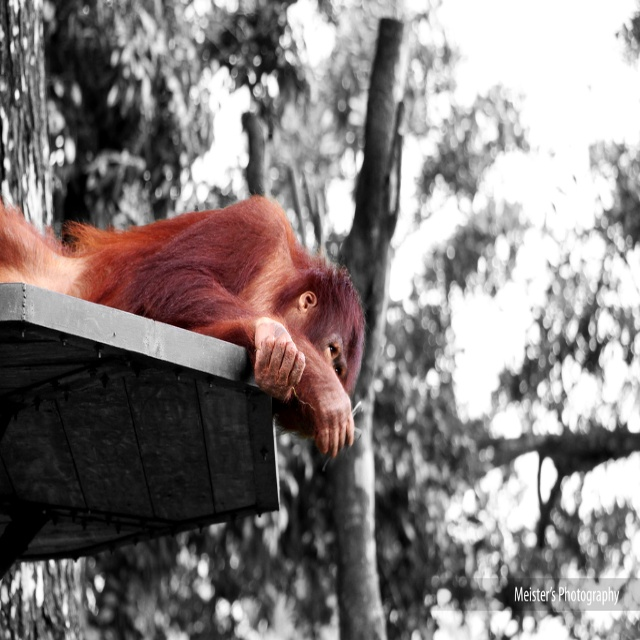Monkey: (20, 167, 394, 472)
